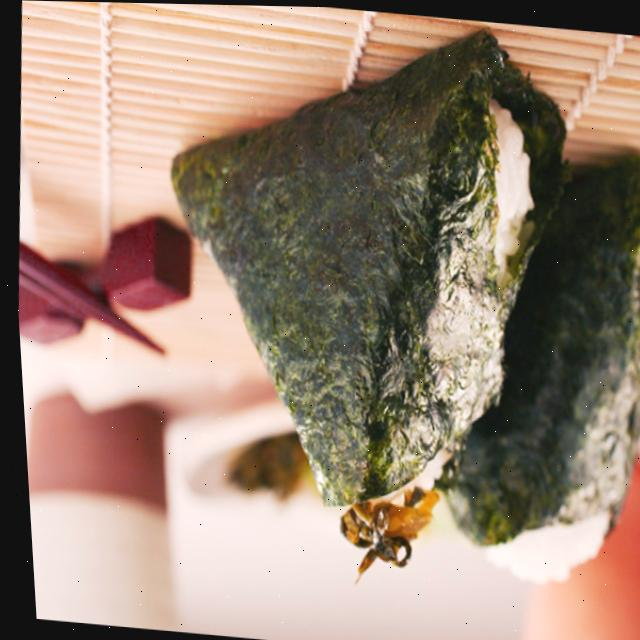米饭主食: (131, 43, 599, 596), (360, 125, 640, 600)
